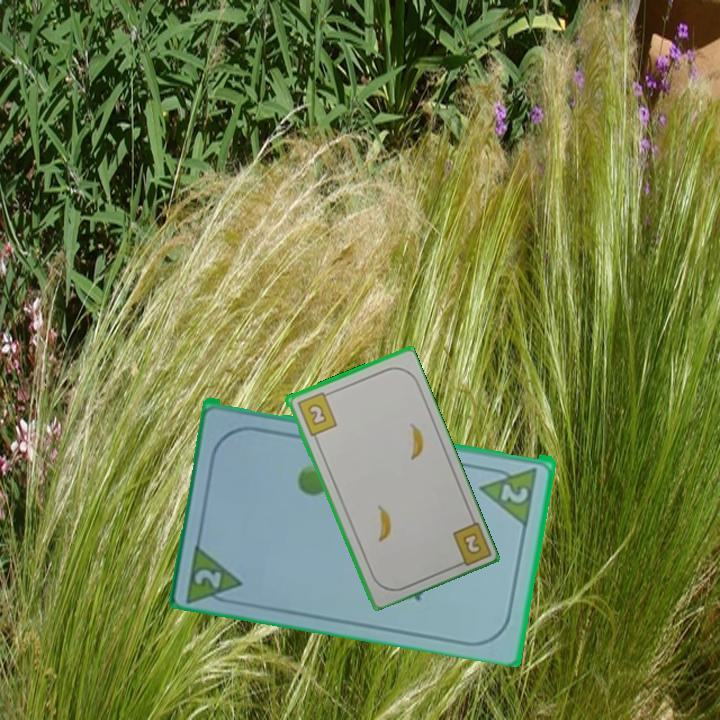2b: (293, 388, 339, 438), (459, 529, 484, 557)
2p: (183, 537, 247, 607), (497, 478, 532, 506)
